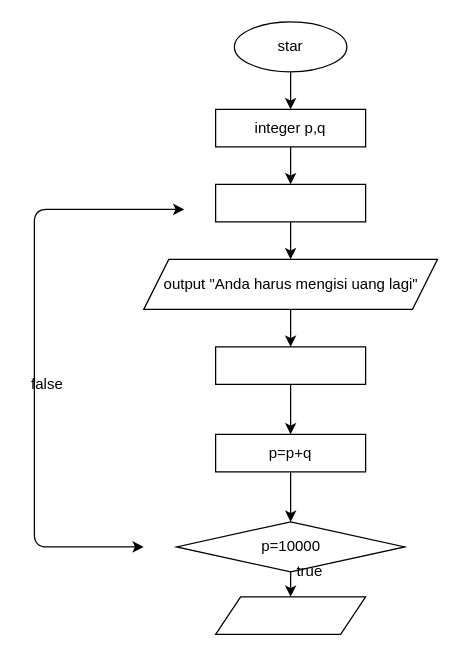
The diagram is 459 pixels wide and 656 high, and some of its shapes have lost their labels. The centre of each missing label's shape, as x and y in pixels:
input q: [290,365]
output "ambil minuman anda": [290,615]
p=0: [290,202]
